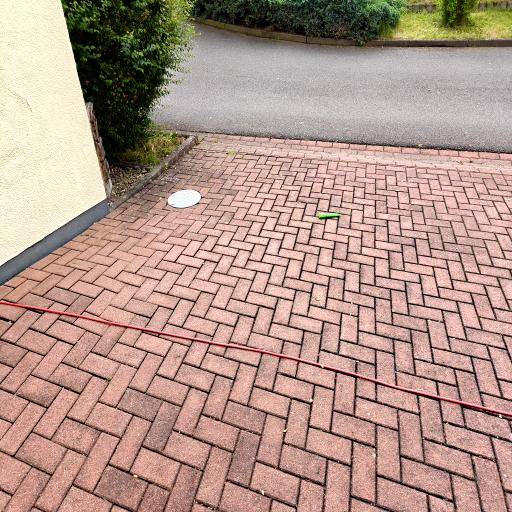Probe-Detection: (318, 213, 340, 218)
